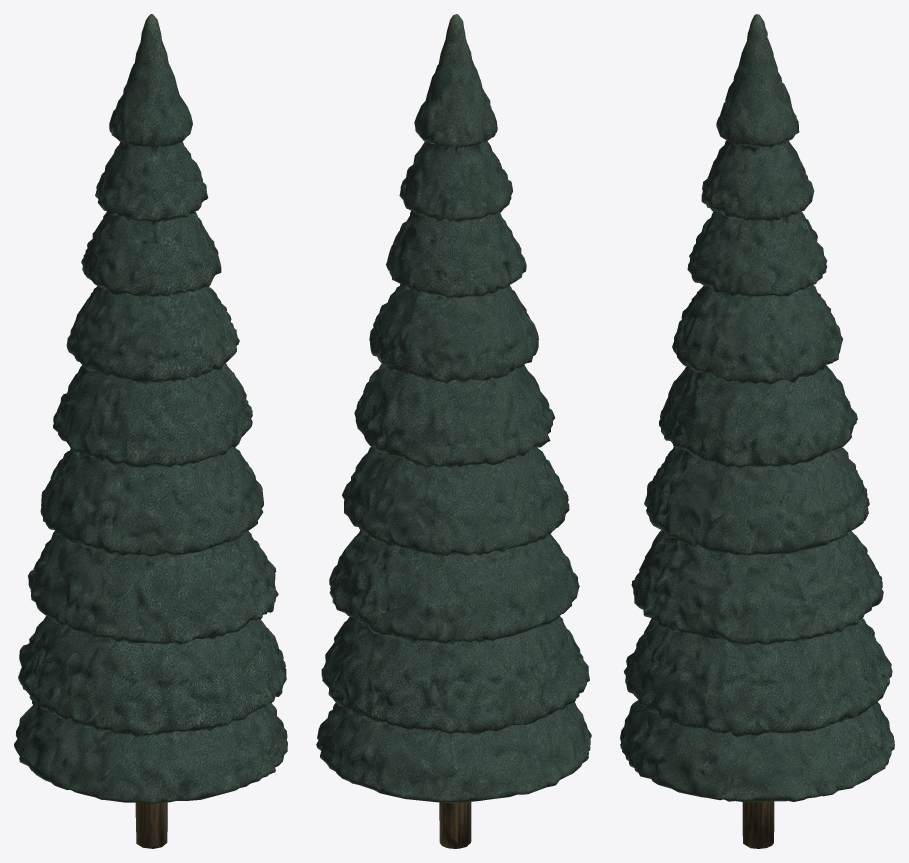
Rendered from abeto_alto.glb.
3 views of the same model, side by side, from view 1: azimuth 30°, elevation 25°; view 2: azimuth 150°, elevation 25°; view 3: azimuth 270°, elevation 25° (orthographic).
Visible parts, largest first — view 1: alto; view 2: alto; view 3: alto.
Boxes of the visible parts, x1,y1,x2,y2 form: alto: (14,14,287,848); alto: (316,14,591,848); alto: (620,14,894,848).
Bounding box in the file's own units: 3.12 × 10.5 × 3.16.
Materials: 1 (1 with a texture image).
